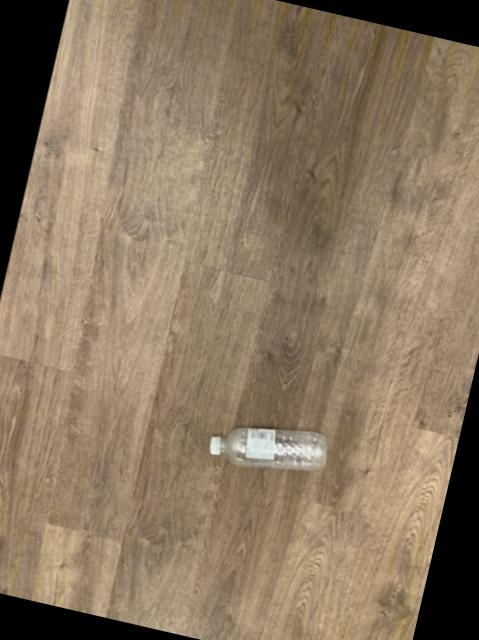plastic: (209, 429, 326, 471)
